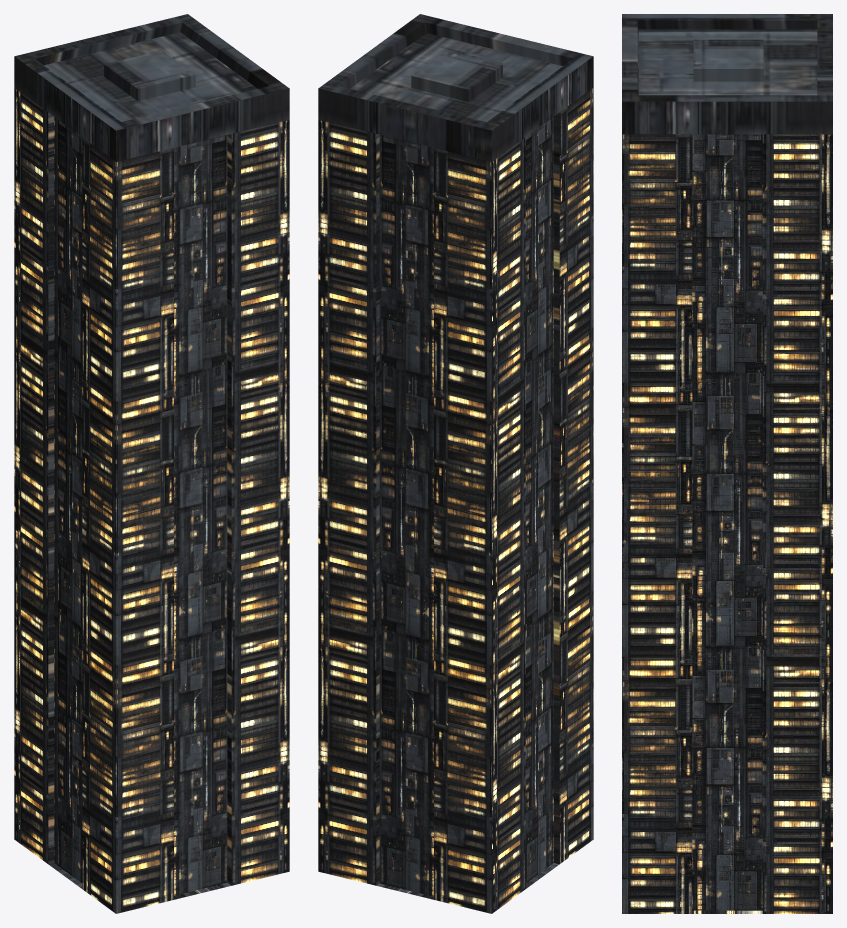
File: 2026-commercial-building-1.glb
3 views of the same model, side by side, from view 1: azimuth 30°, elevation 25°; view 2: azimuth 150°, elevation 25°; view 3: azimuth 270°, elevation 25° (orthographic). The views are drawn at different scales.
Parts seen in each view (by area): view 1: 2026-commercial-building-11; view 2: 2026-commercial-building-11; view 3: 2026-commercial-building-11.
Boxes of the visible parts, bbox=[...] form: 2026-commercial-building-11: bbox=[14, 14, 289, 913]; 2026-commercial-building-11: bbox=[318, 14, 593, 913]; 2026-commercial-building-11: bbox=[622, 14, 832, 913].
Size of the model in its own units: 35.17 by 152 by 35.71.
1 material, 1 textured.
